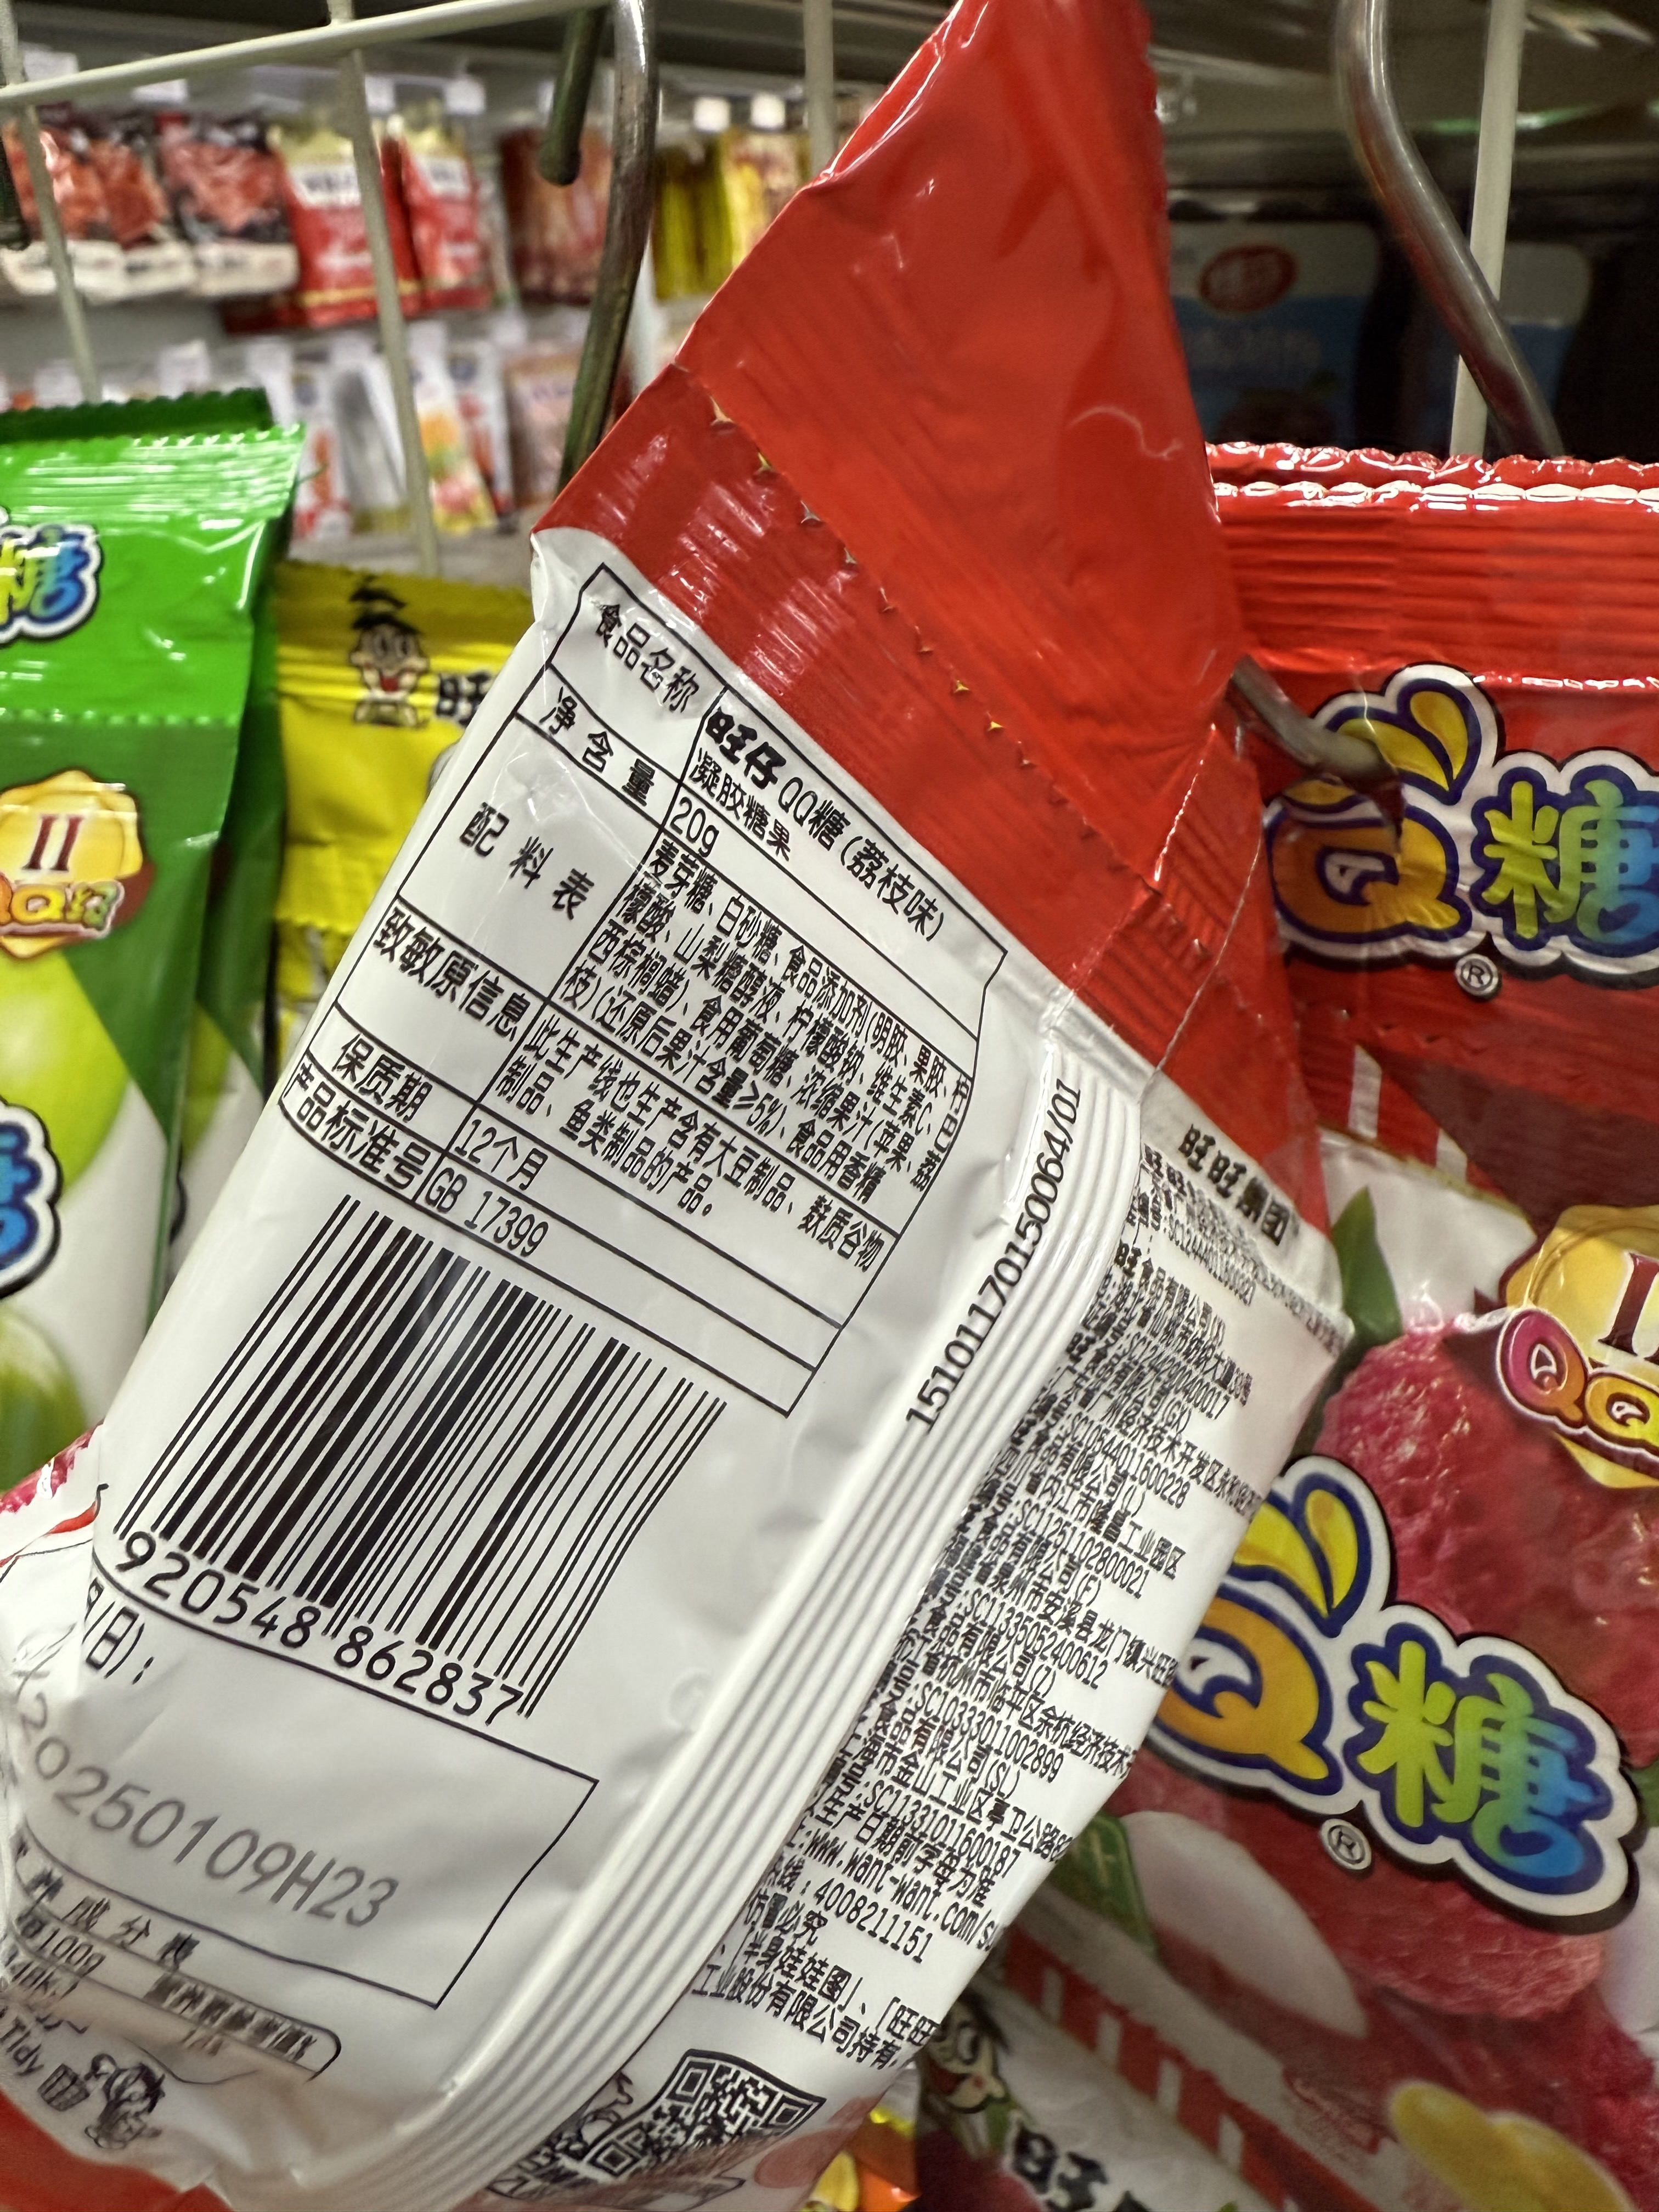bar: (108, 1181, 748, 1735)
